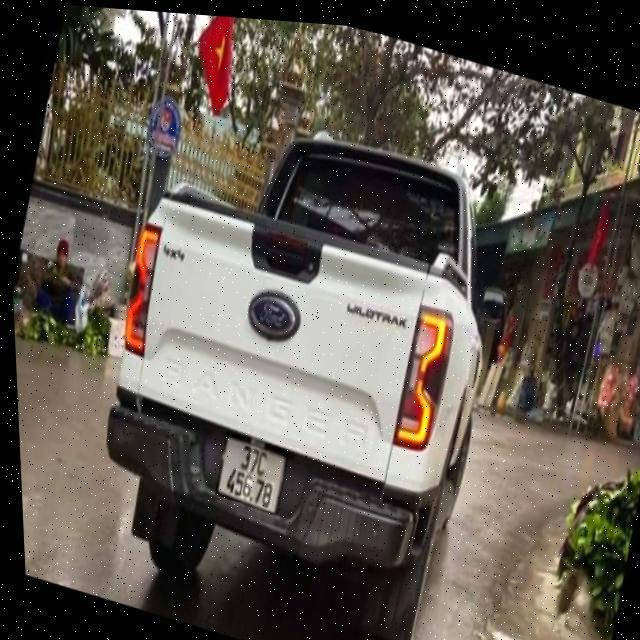car: (64, 81, 549, 640)
plate: (205, 426, 296, 521)
